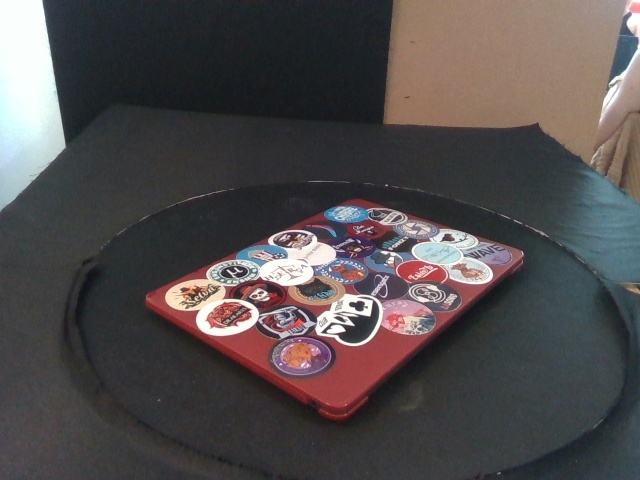laptop: (144, 197, 525, 423)
